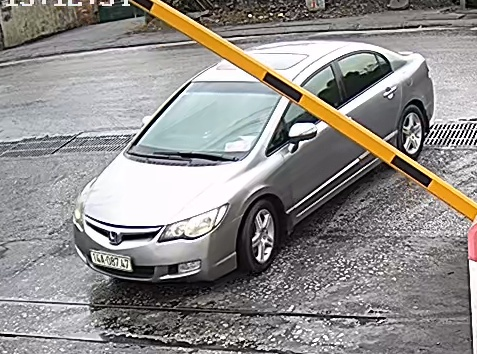vehicle plate: (87, 248, 133, 275)
